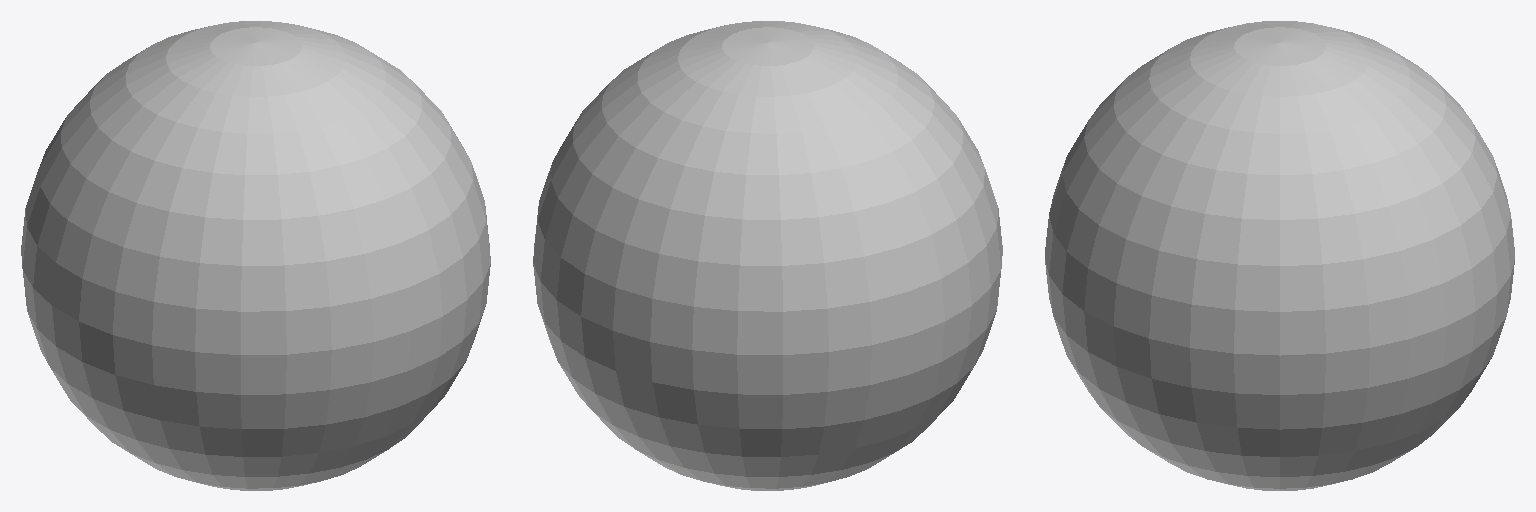
Rendered from ball1.obj.
3 views of the same model, side by side, from view 1: azimuth 30°, elevation 25°; view 2: azimuth 150°, elevation 25°; view 3: azimuth 270°, elevation 25° (orthographic).
Parts seen in each view (by area): view 1: Sphere002; view 2: Sphere002; view 3: Sphere002.
Boxes of the visible parts, x1=… form: Sphere002: x1=21, y1=21, x2=490, y2=490; Sphere002: x1=533, y1=21, x2=1002, y2=490; Sphere002: x1=1045, y1=21, x2=1514, y2=490.
Size of the model in its own units: 43.97 by 43.97 by 43.97.